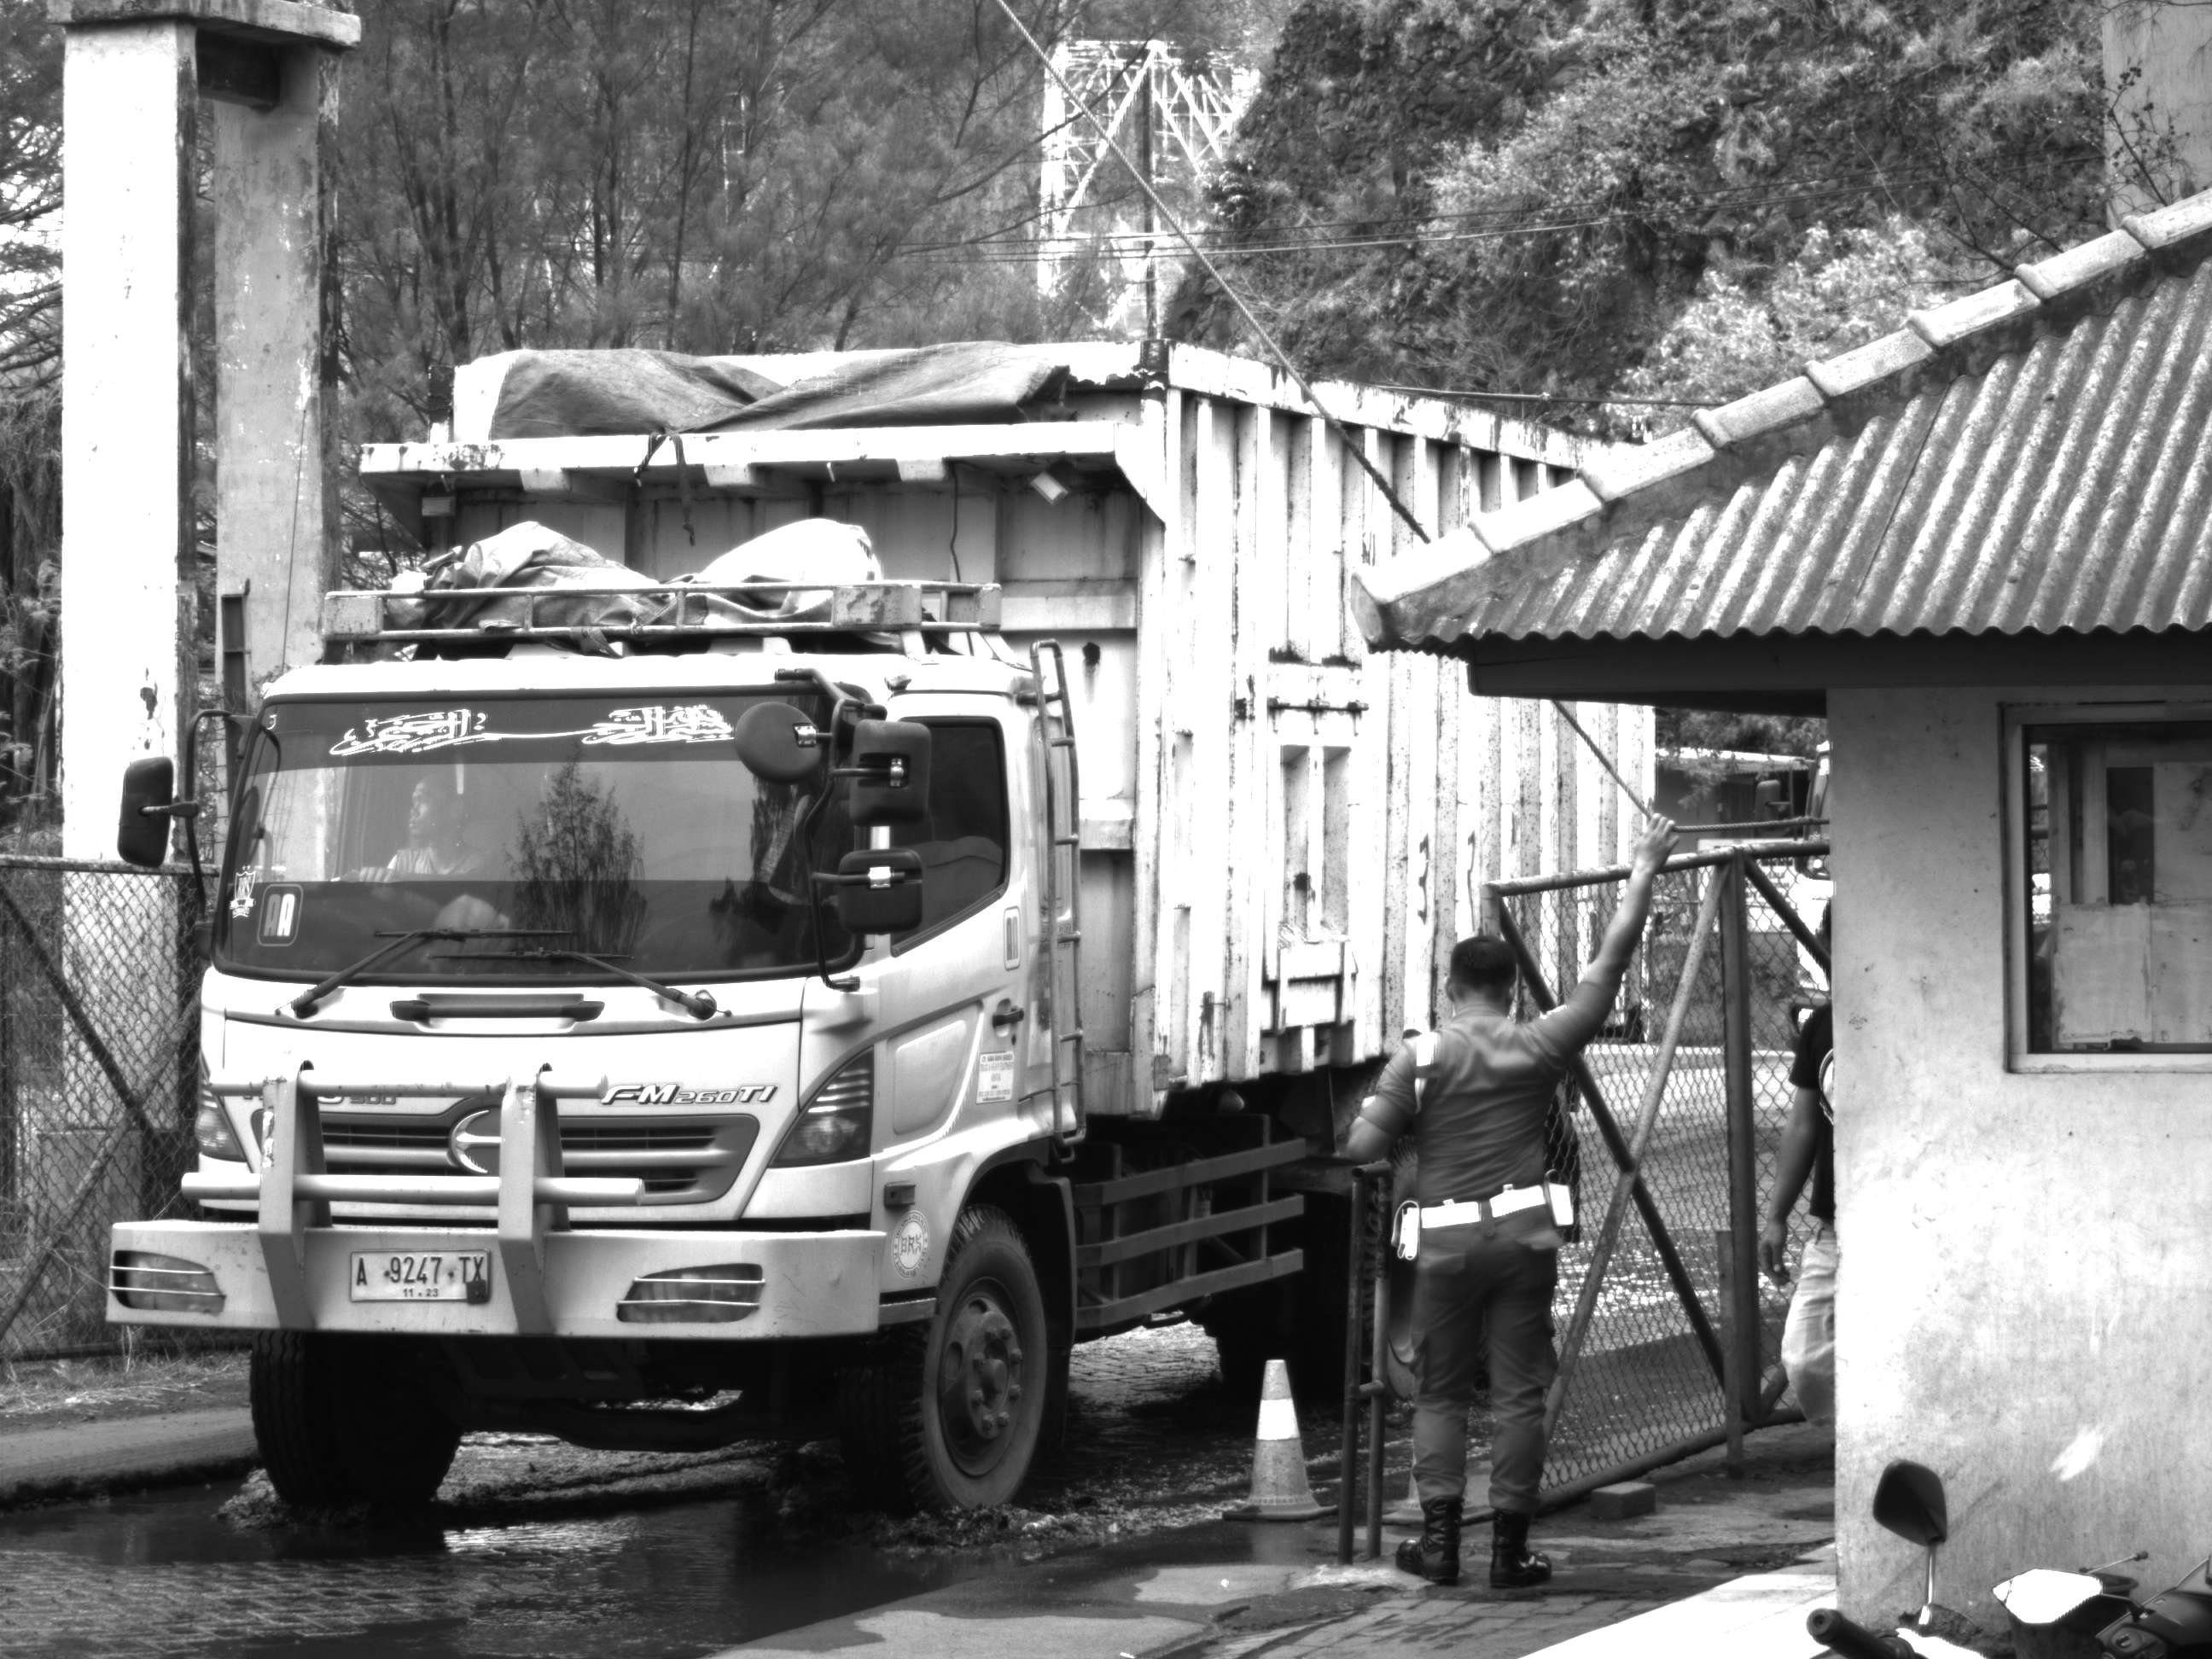day_truck_front: (116, 564, 1083, 1536)
plate: (346, 1246, 493, 1305)
